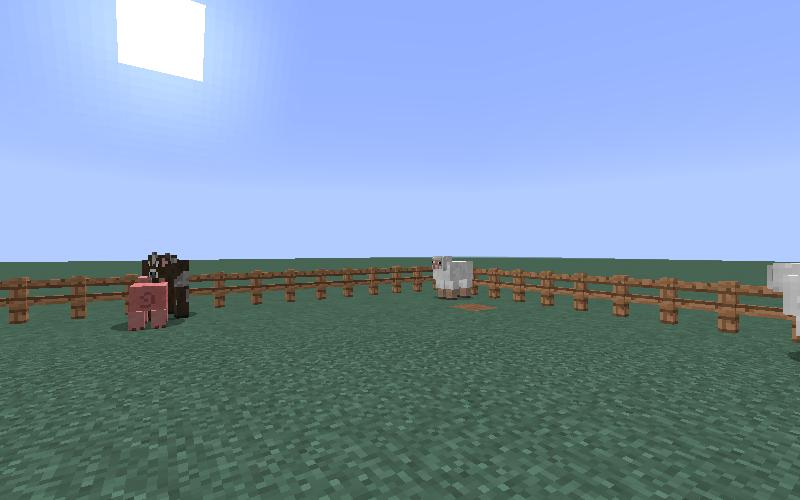cow: (143, 251, 189, 284)
pig: (127, 275, 171, 333)
sheep: (429, 253, 473, 302)
